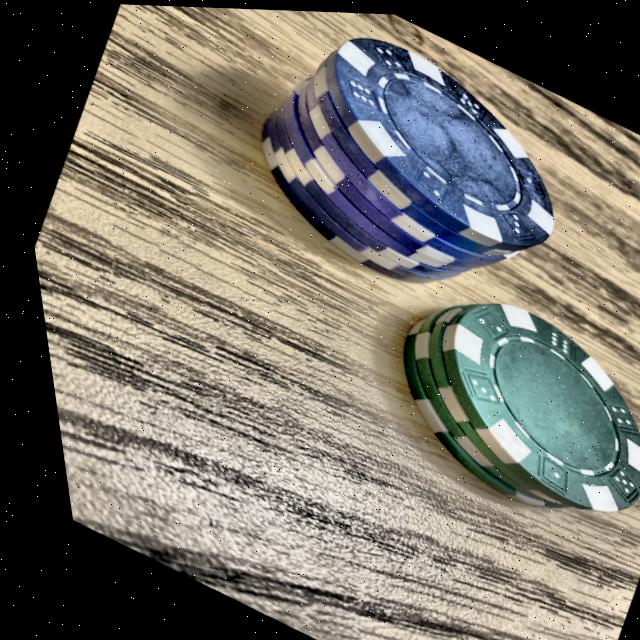Chip: (163, 5, 640, 366), (305, 225, 640, 564)
